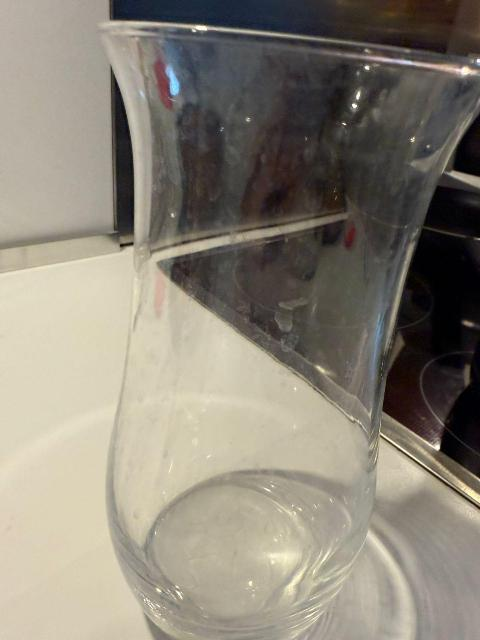Cam: (83, 16, 480, 640)
